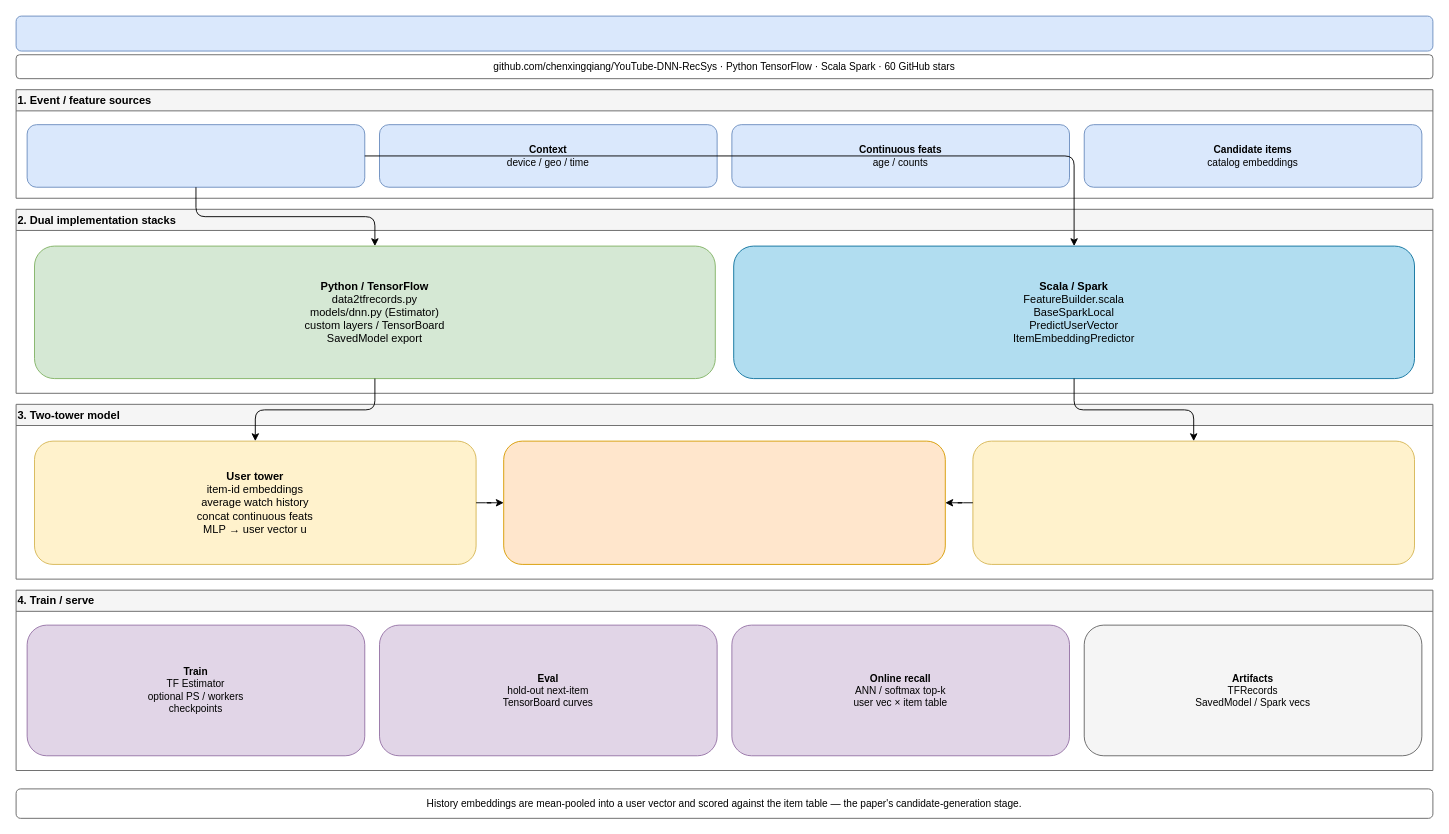
Image size: 1449x834. Some labels were removed from this diagram. Each missing label, with the centre of its shape:
"Item tower shared item embedding table v_i optional side features" belongs at [1193,502].
"Matching dot(u, v_i) sampled softmax next-watch objective" belongs at [724,502].
"Watch history video / search ids" belongs at [195,155].
"YouTube-DNN-RecSys — Two-tower recall (Covington et al.) in TF + Spark" belongs at [724,33].
